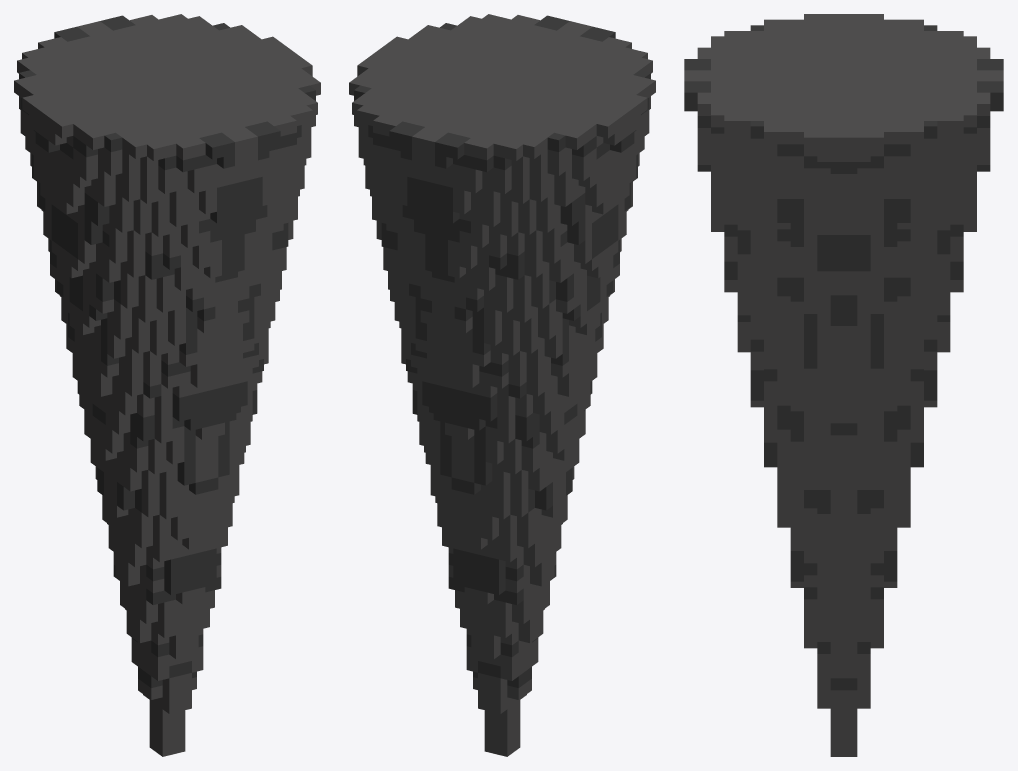
Rendered from stone top.obj.
3 renders of one model, left to right at view 1: azimuth 30°, elevation 25°; view 2: azimuth 150°, elevation 25°; view 3: azimuth 270°, elevation 25°, orthographic.
Bounding box in the file's own units: 2.2 × 5.6 × 2.4.
1 material, 1 textured.
